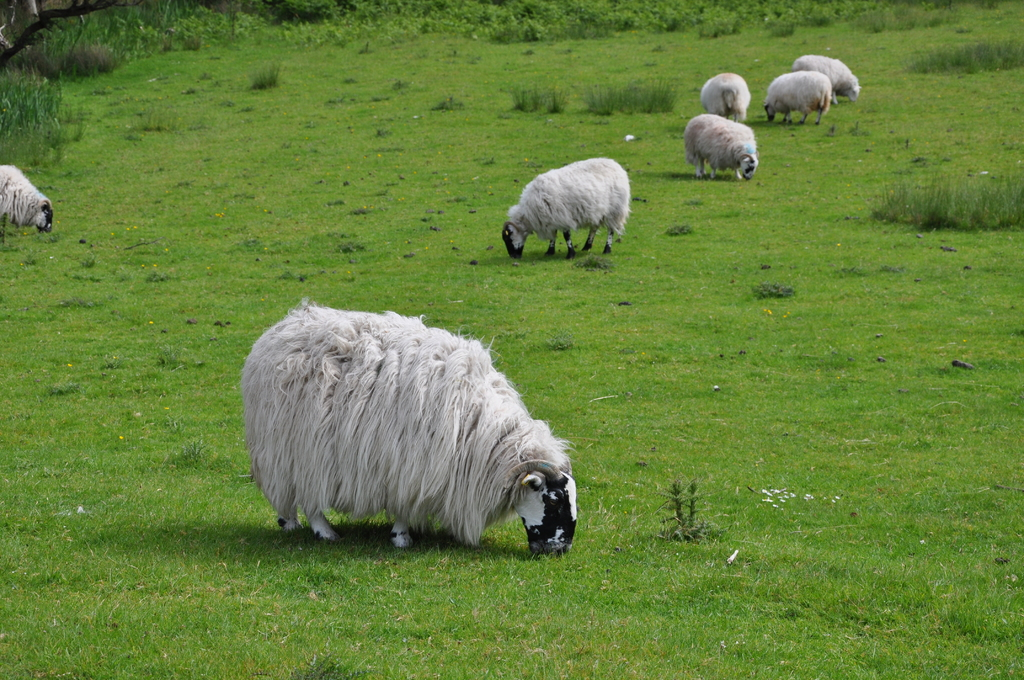sheep: (240, 300, 576, 560), (498, 155, 632, 259), (684, 112, 760, 181), (763, 71, 831, 124)
